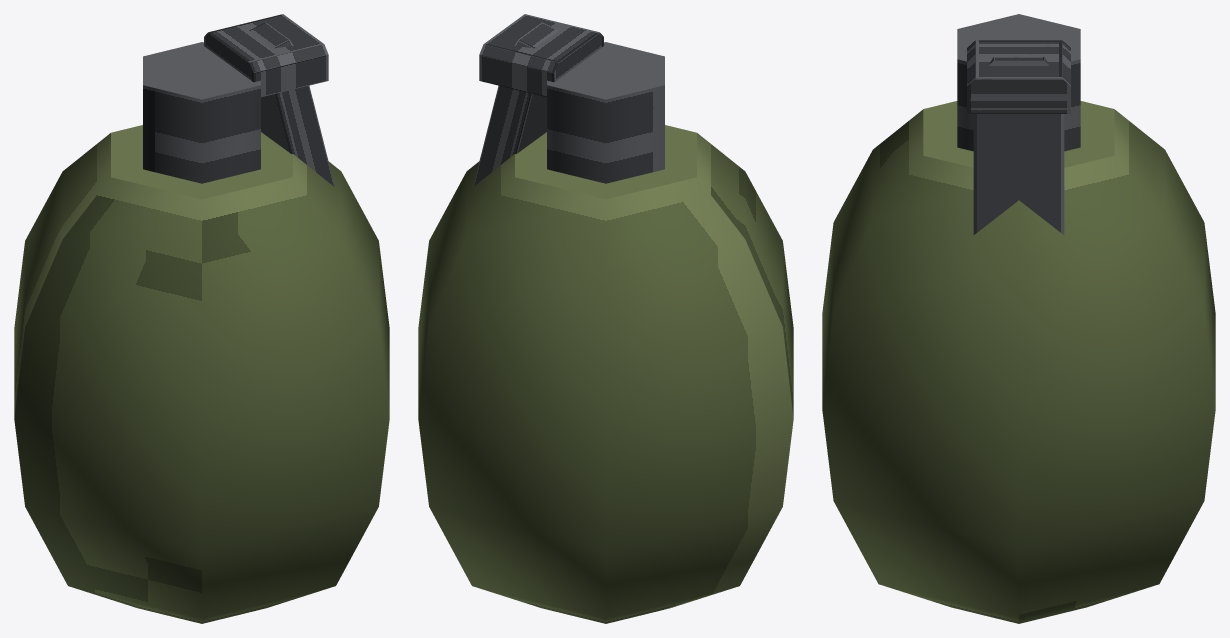
The model's file is HEGrenade.glb.
The picture shows the model from 3 angles, left to right: view 1: azimuth 30°, elevation 25°; view 2: azimuth 150°, elevation 25°; view 3: azimuth 270°, elevation 25°; orthographic projection. The views are drawn at different scales.
Parts seen in each view (by area): view 1: HEGrenade; view 2: HEGrenade; view 3: HEGrenade.
Boxes of the visible parts, x1,y1,x2,y2 form: HEGrenade: [14, 14, 389, 623]; HEGrenade: [418, 14, 793, 623]; HEGrenade: [822, 14, 1215, 623].
Bounding box in the file's own units: 0.07 × 0.0968 × 0.0606.
1 material, 1 textured.
